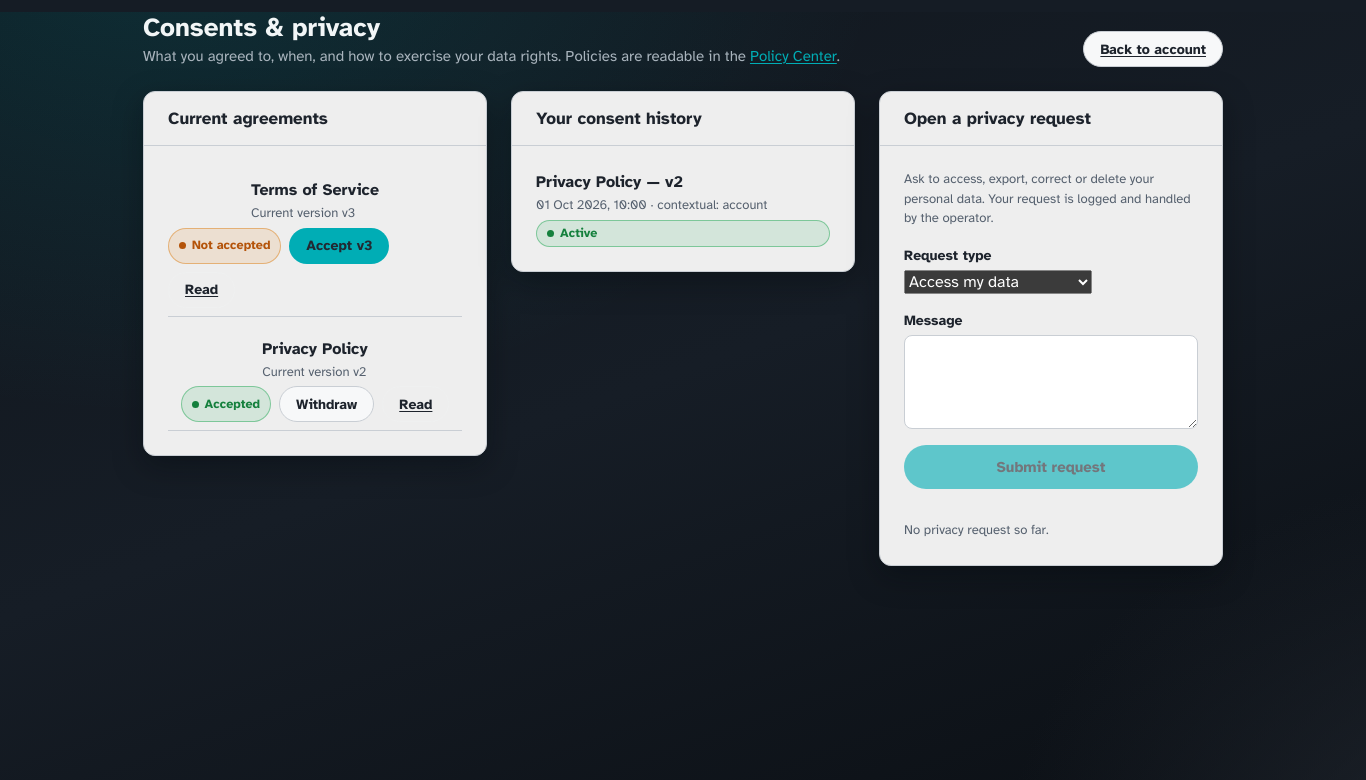
Test case: ConsentsPage › opens a privacy request with the chosen type and message
Check: the text "Terms of Service" is shown, box [251,178,379,202]
Select "Delete my account data" in the dropdown labelled "Request type": (998, 282) [904,270,1092,294]
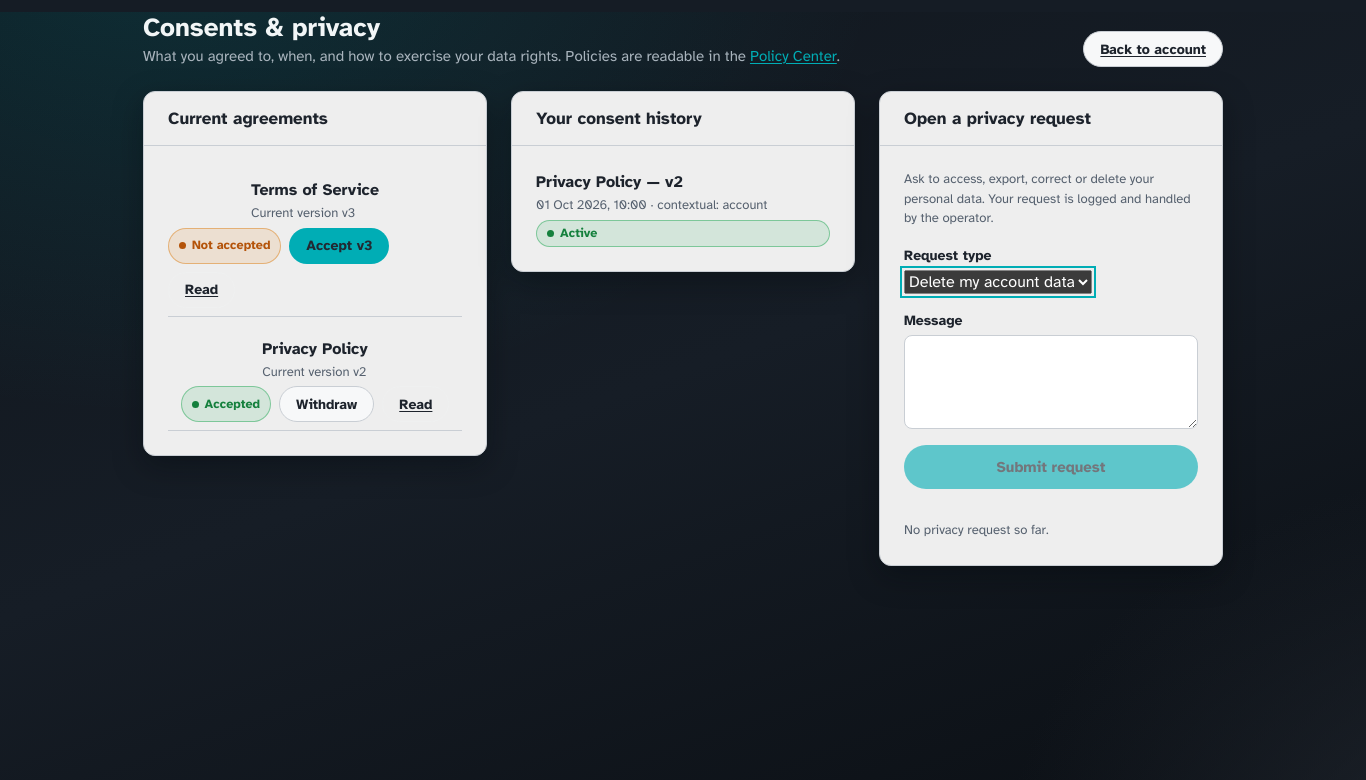
In the text box labelled "Message": (1051, 382) [904,335,1198,429], type "Please delete my account data after export."
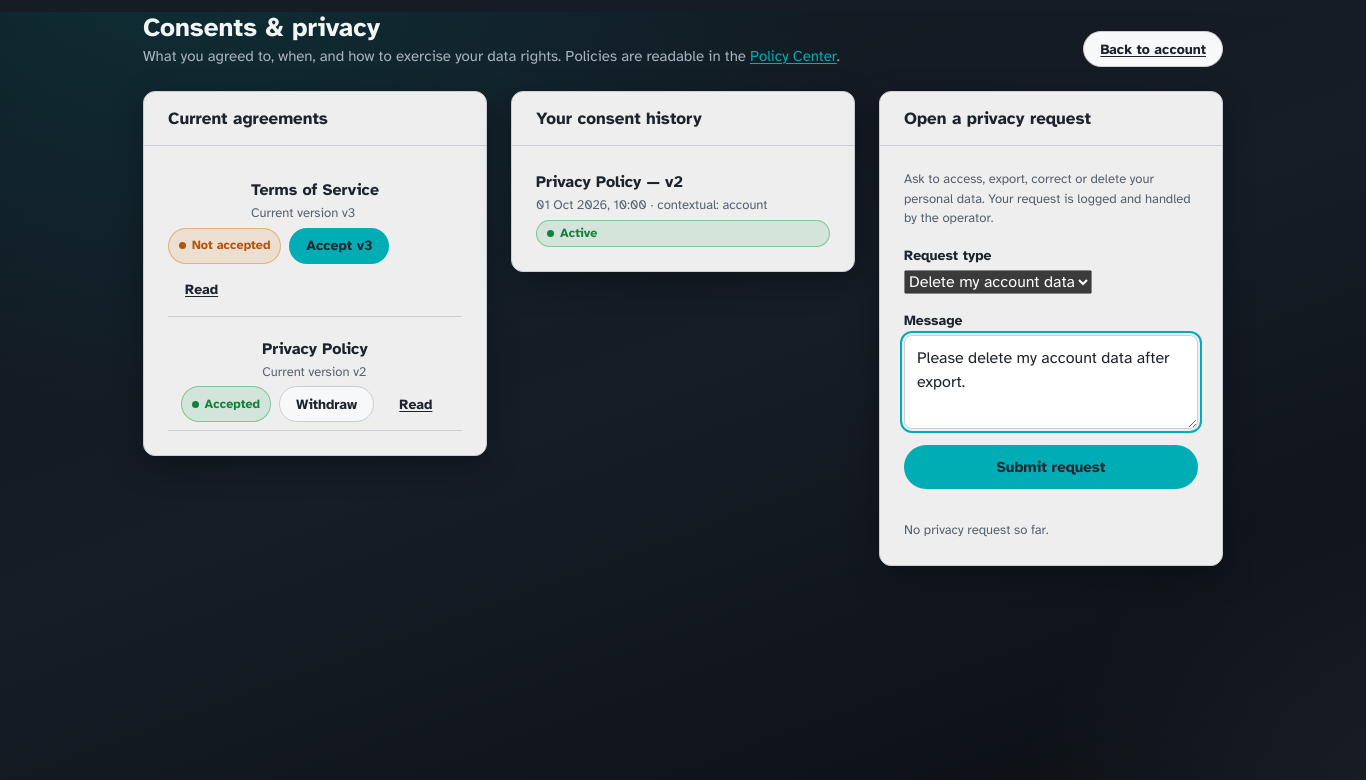
Click the button "Submit request": click(1051, 467) [904,445,1198,489]
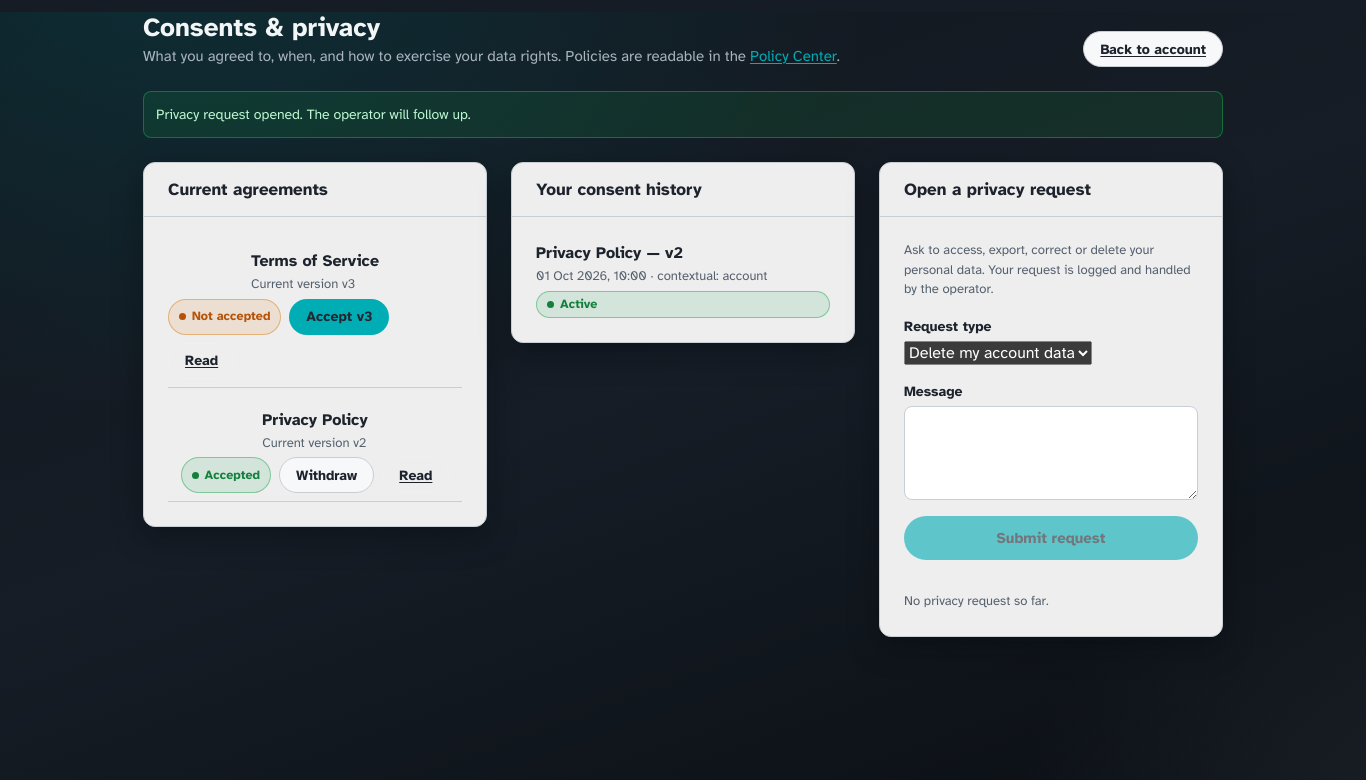
Check: the text "Privacy request opened. The operator will follow up." is shown, box [143,91,1223,138]
